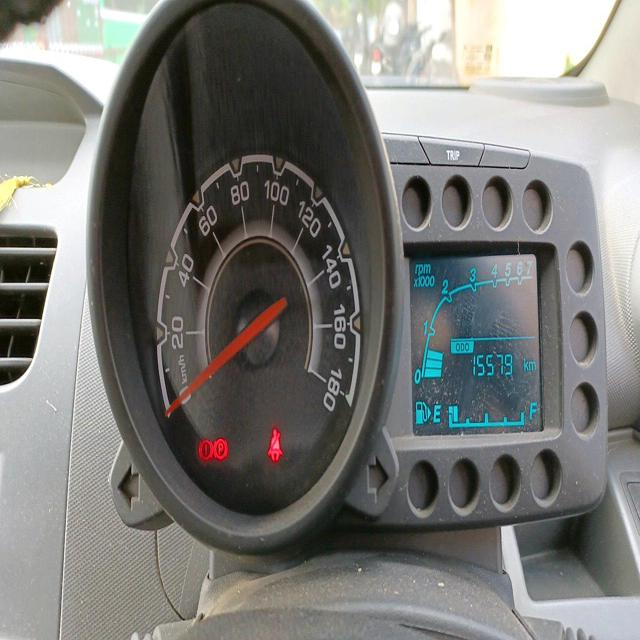odometer: (471, 349, 514, 381)
